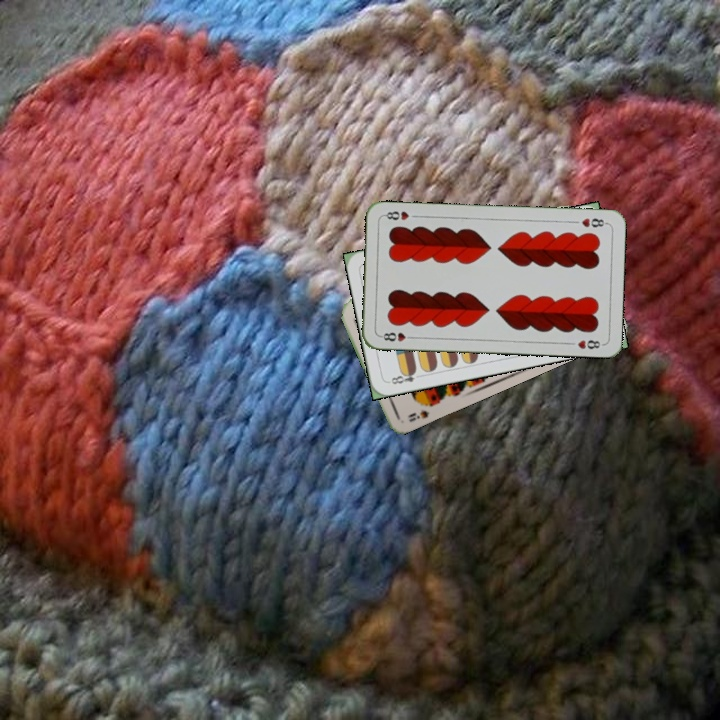E8: (384, 366, 425, 387)
H8: (376, 328, 417, 344), (577, 214, 610, 230)
S9: (404, 398, 439, 424)
